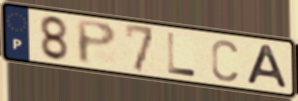7: (124, 22, 156, 75)
8: (37, 14, 70, 63)
A: (245, 43, 290, 91)
C: (210, 38, 240, 84)
L: (166, 31, 199, 79)
P: (74, 18, 119, 67)
